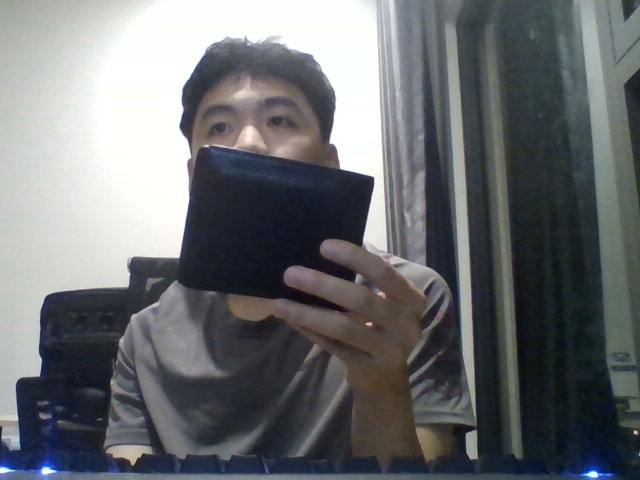wallet: (176, 145, 375, 313)
